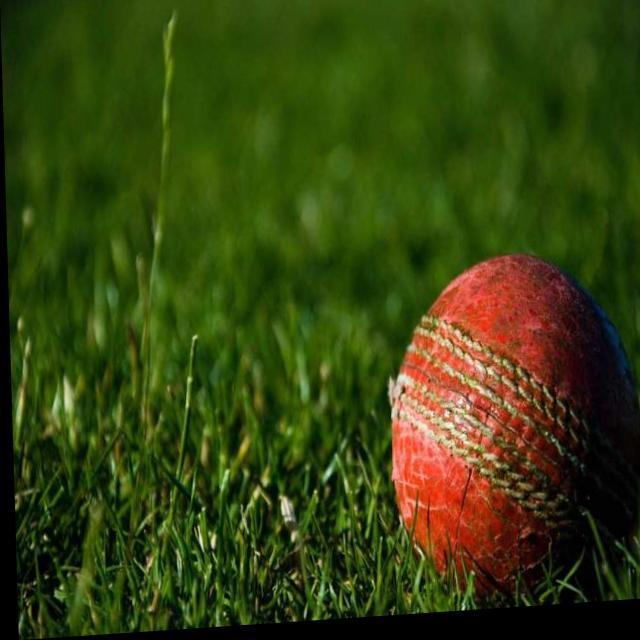cricket ball: (389, 260, 639, 605)
